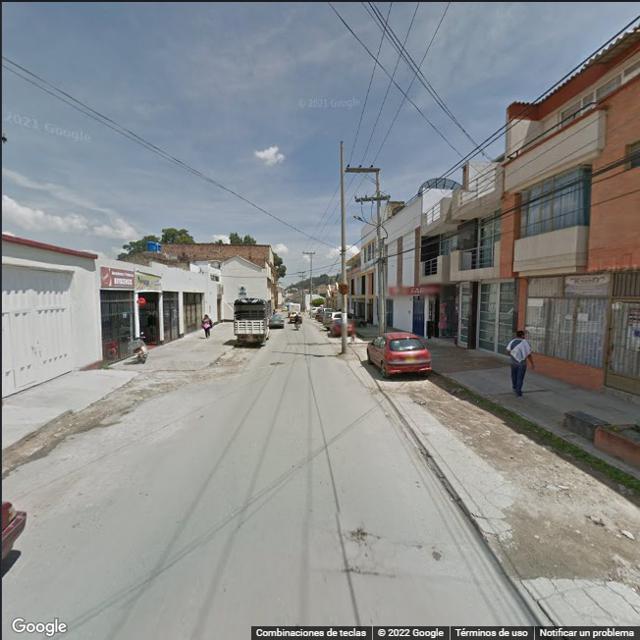D00: (352, 530, 366, 563)
D10: (321, 567, 408, 580)
